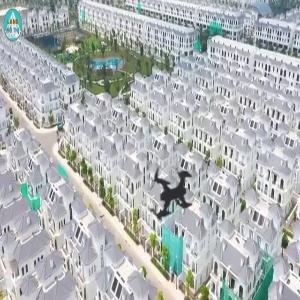drone: (91, 115, 248, 272)
